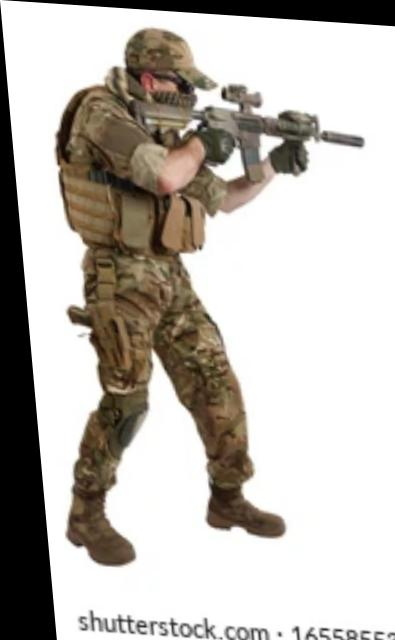other: (45, 27, 268, 556)
